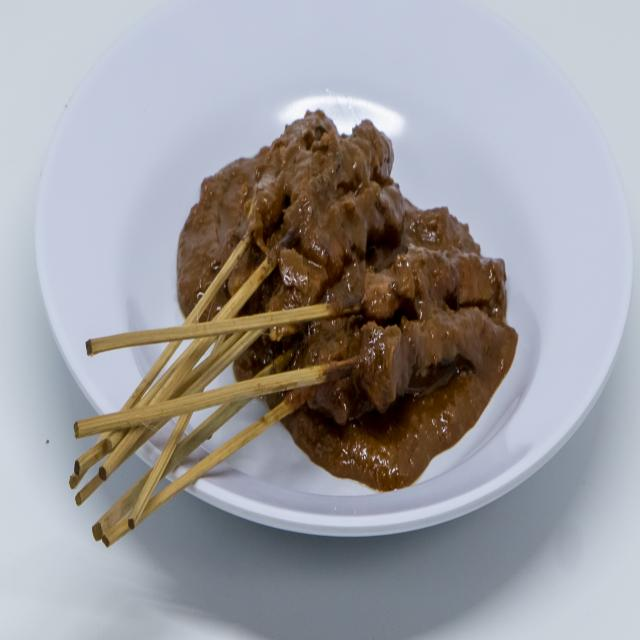Sate-Ayam: (163, 93, 517, 453)
